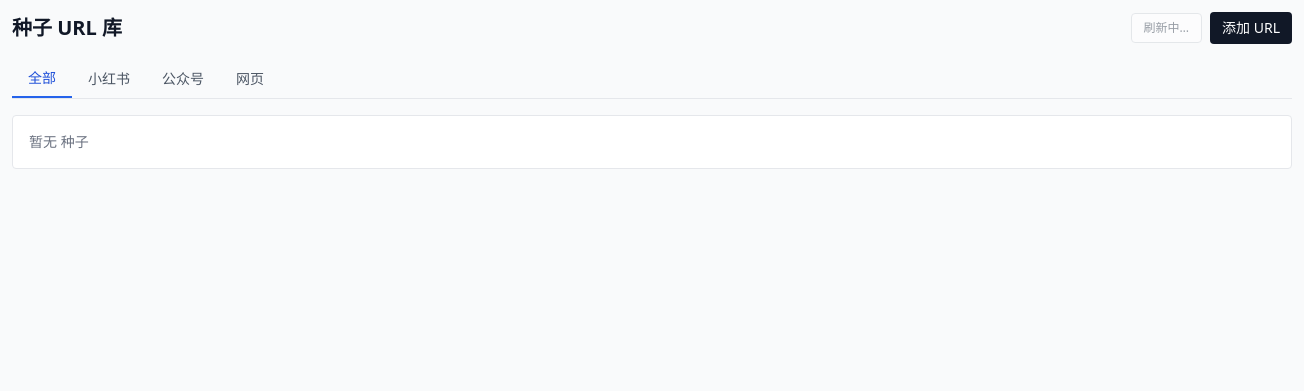
Test: SeedsPage (P3-7) › 点 '添加 URL' → 弹表单 → 单条提交
Click the button with test id "seeds-add-toggle".
click(1251, 28)  # box top-left (1210, 12), bottom-right (1292, 44)
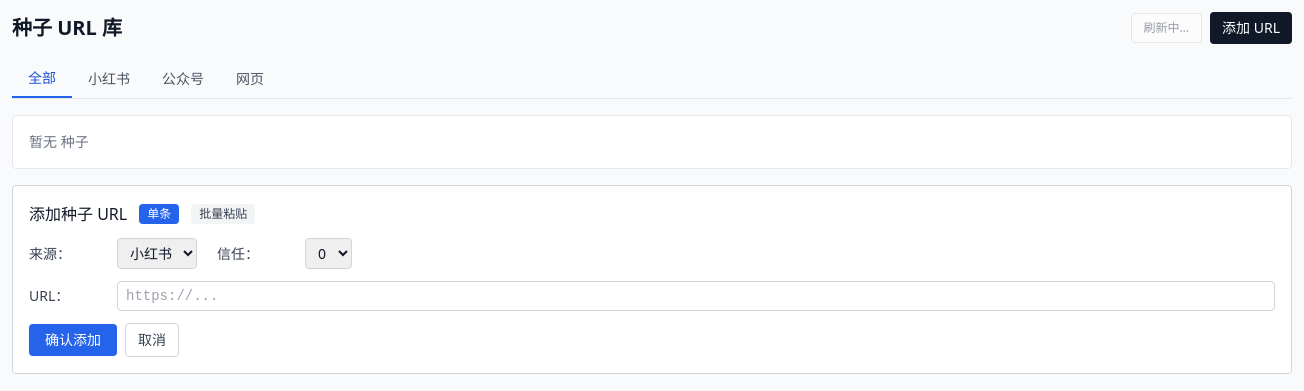
Check: the element with test id "seeds-add-form" is shown, box top-left (12, 185), bottom-right (1292, 374)
Type "https://www.xiaohongshu.com/explore/ui-test" into the field with test id "seeds-add-url".
click(696, 296); type("https://www.xiaohongshu.com/explore/ui-test")  # box top-left (117, 281), bottom-right (1275, 311)
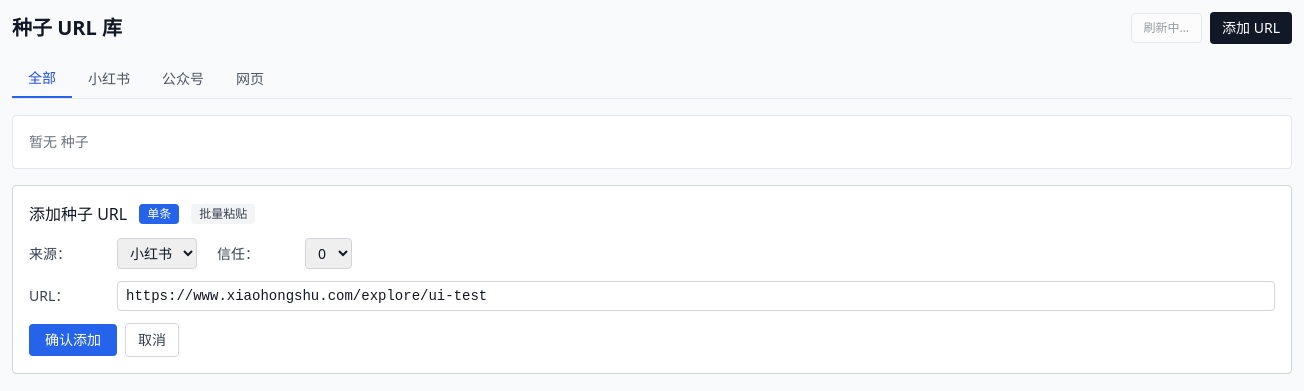
Click the button with test id "seeds-add-submit".
click(73, 340)  # box top-left (29, 324), bottom-right (117, 356)
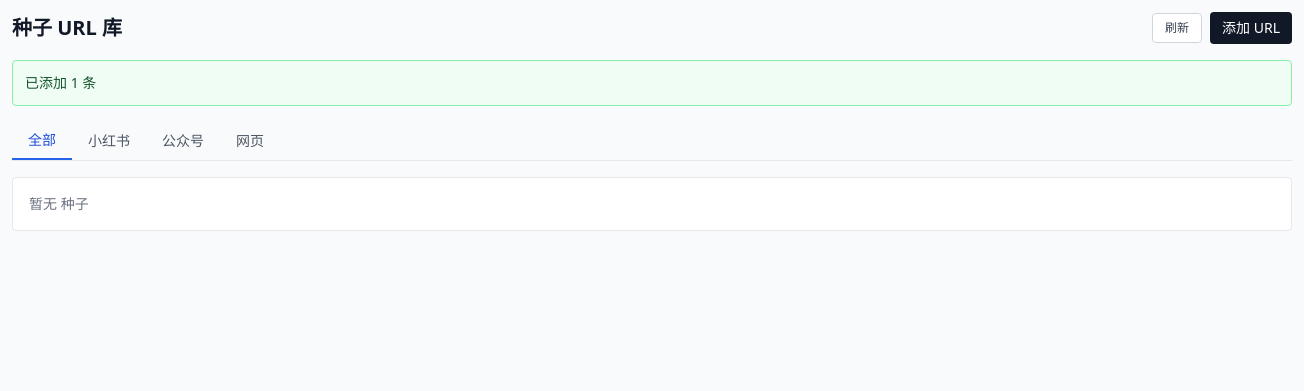
Check: the text "已添加 1 条" is shown, box top-left (12, 60), bottom-right (1292, 106)
Check: the text with test id "seeds-info" shows "已添加", box top-left (25, 73), bottom-right (96, 92)
